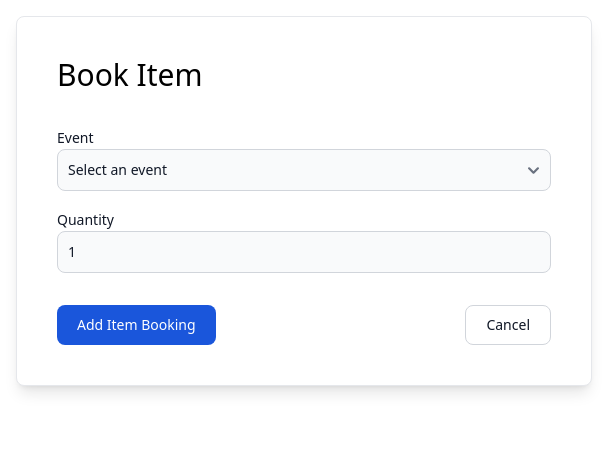
Test: NewItemBooking Page › prevents form submission if quantity is less than 1
The width and height of the screenshot is (609, 460).
Replace the text in the number field labelled "Quantity" with "0": (304, 252) [57, 231, 551, 273]
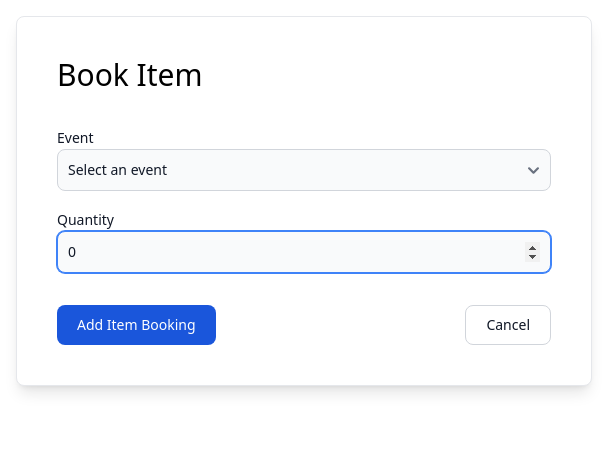
Click the button "Add Item Booking": (136, 325) [57, 305, 216, 345]
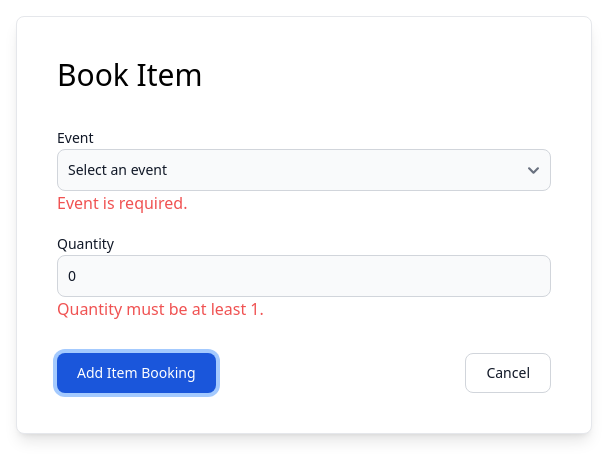
Result: the text "Quantity must be at least 1." is shown at [57, 298, 264, 320]
